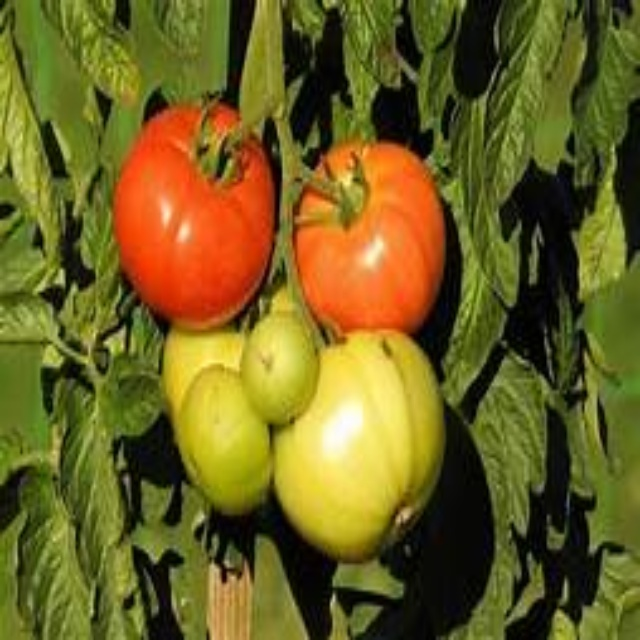tomato: (292, 340, 451, 559), (121, 108, 272, 331), (299, 141, 446, 338), (164, 359, 277, 528), (225, 310, 330, 424)
